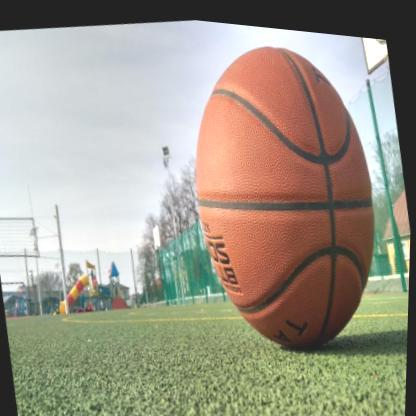basketball: (172, 18, 400, 361)
